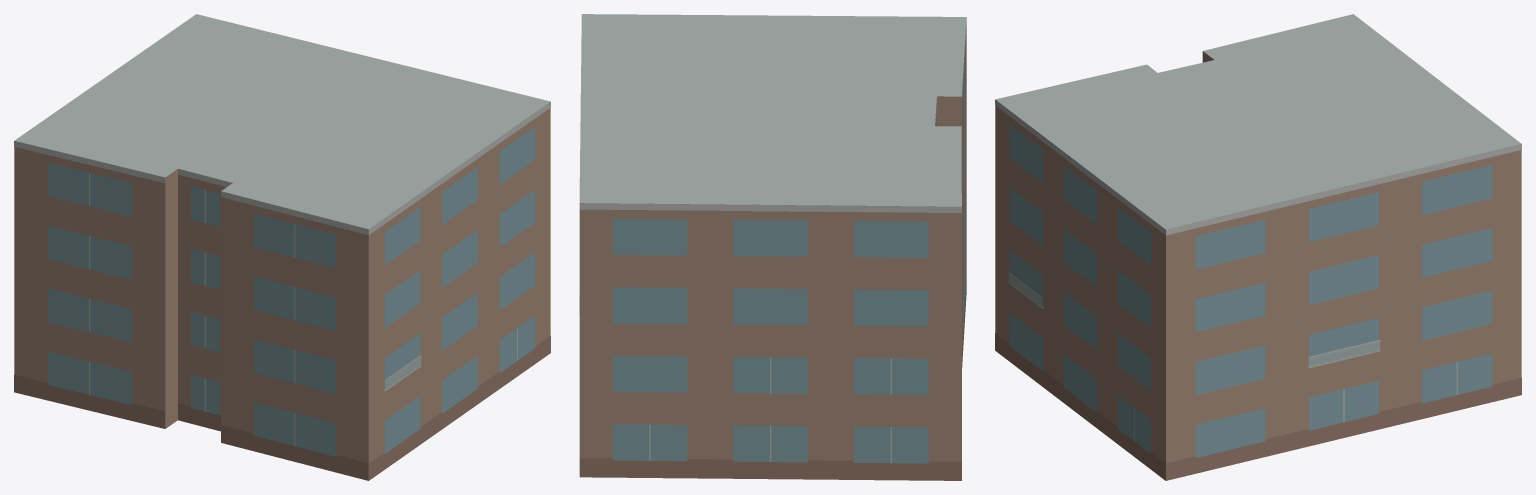
File: survey-upis-32612914.glb
The picture shows the model from 3 angles, left to right: view 1: azimuth 30°, elevation 25°; view 2: azimuth 150°, elevation 25°; view 3: azimuth 270°, elevation 25°; orthographic projection. The views are drawn at different scales.
Visible parts, largest first — view 1: survey-upis-32612914.tmp; view 2: survey-upis-32612914.tmp; view 3: survey-upis-32612914.tmp.
Boxes of the visible parts, left/top/right/bottom form: survey-upis-32612914.tmp: left=14, top=14, right=550, bottom=480; survey-upis-32612914.tmp: left=579, top=14, right=966, bottom=480; survey-upis-32612914.tmp: left=995, top=14, right=1521, bottom=480.
Bounding box in the file's own units: 19.16 × 10.4 × 19.77.
